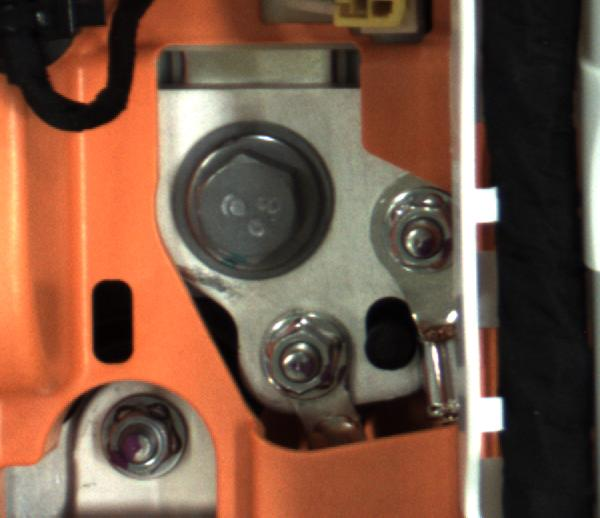nut_b: (174, 128, 323, 275)
screw_s: (92, 397, 182, 484), (263, 314, 341, 403), (384, 183, 449, 262)
